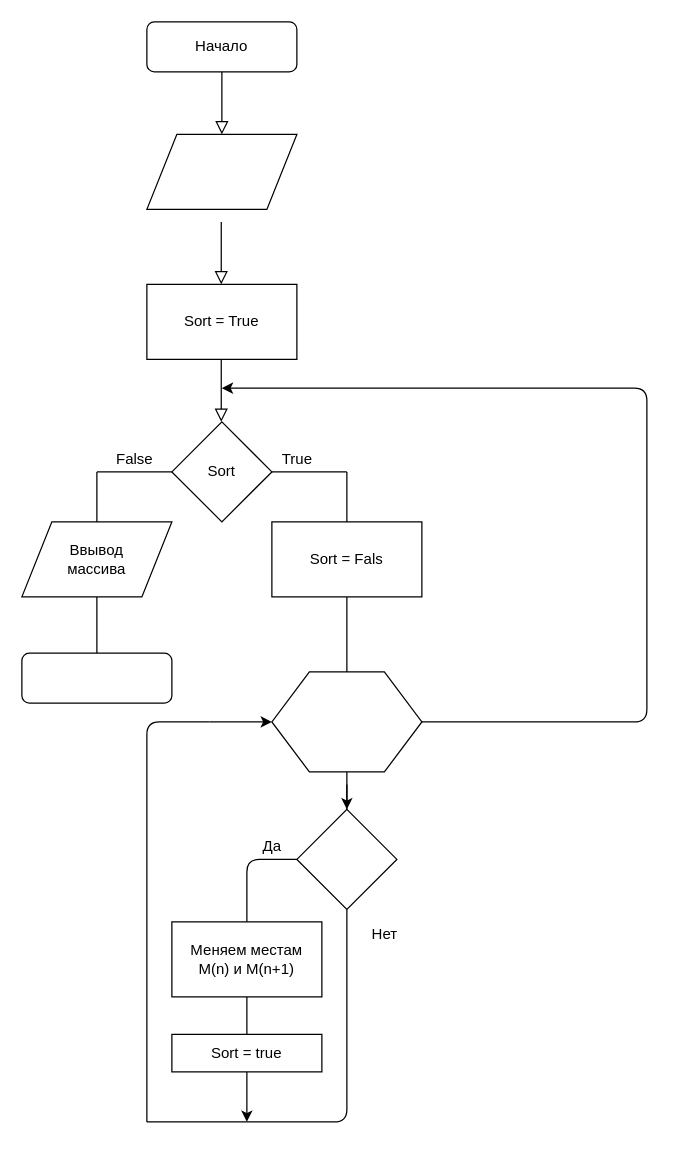
Some shapes in this 679 by 1154 pixel diagram are drawn without their labels. The centre of each missing label's shape, as x and y in pixels:
"M(n)> M(n+1)" belongs at pixel 346 858.
"N=0 Tomax-1" belongs at pixel 346 721.
"Ввод массива" belongs at pixel 221 171.
"Конец" belongs at pixel 96 677.
